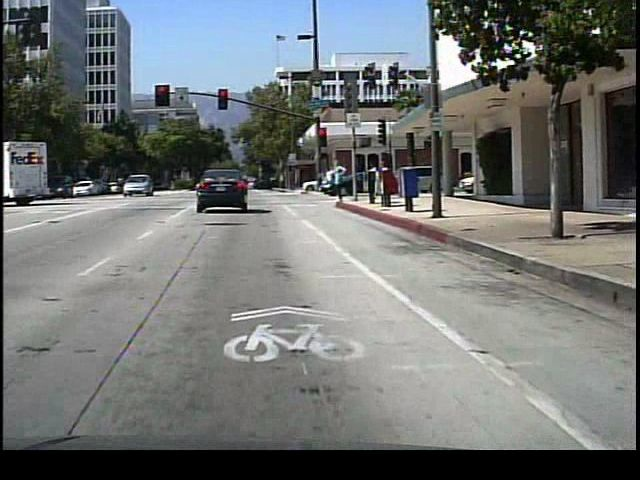person: (328, 152, 351, 206), (377, 156, 396, 199), (363, 158, 380, 197)
